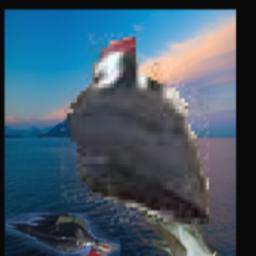Cuckoo: (137, 198, 217, 256)
Woodpecker: (17, 34, 209, 225), (6, 213, 121, 256)
